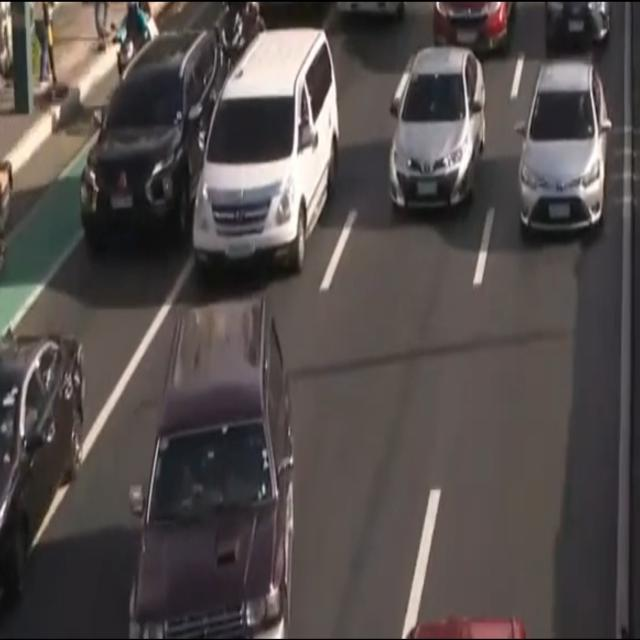SUV: (132, 299, 296, 640), (78, 36, 222, 262)
Sedan: (0, 331, 92, 589), (389, 54, 486, 220), (517, 61, 610, 234)
Van: (187, 28, 341, 280)
